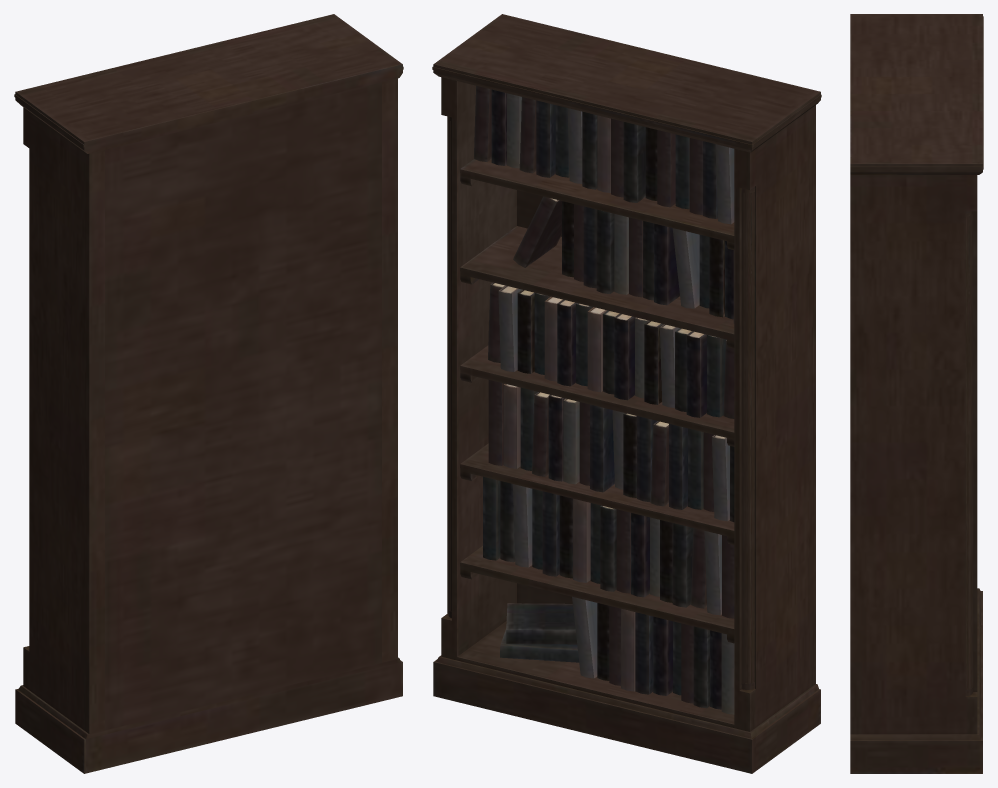
The model's file is bookcase-tall.glb.
3 renders of one model, left to right at view 1: azimuth 30°, elevation 25°; view 2: azimuth 150°, elevation 25°; view 3: azimuth 270°, elevation 25°, orthographic. The views are drawn at different scales.
Visible parts, largest first — view 1: bookcase-tall; view 2: bookcase-tall; view 3: bookcase-tall.
Part boxes in pixels (<box>): bookcase-tall: <box>14,14,403,773</box>; bookcase-tall: <box>432,14,821,773</box>; bookcase-tall: <box>850,14,983,773</box>.
Size of the model in its own units: 0.954 by 1.8 by 0.357.
1 material, 1 textured.
